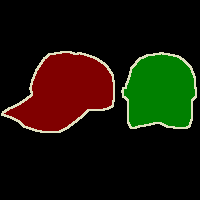hat: (2, 52, 114, 132), (122, 52, 196, 128)
